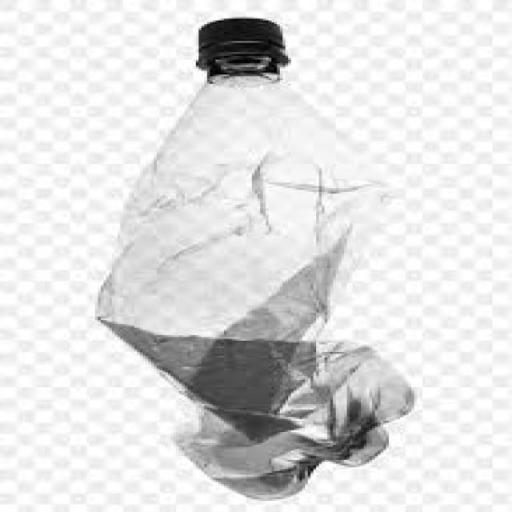plastic: (94, 10, 428, 500)
